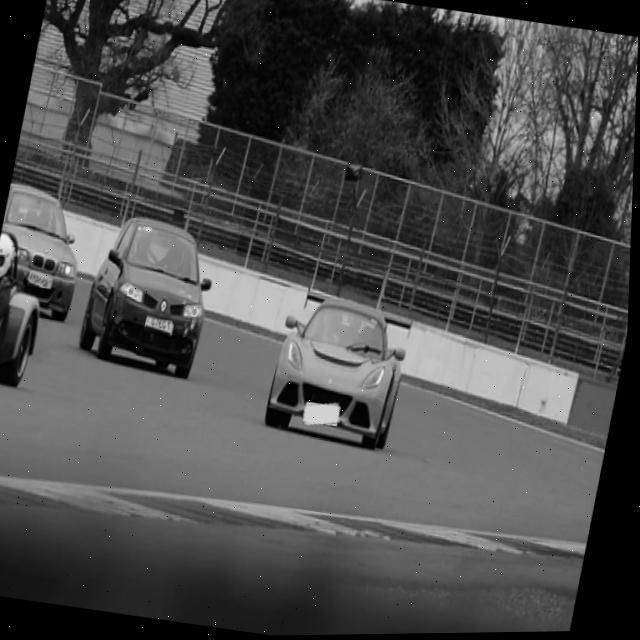LicensePlate: (309, 404, 344, 426), (147, 319, 175, 335), (30, 271, 53, 289)
